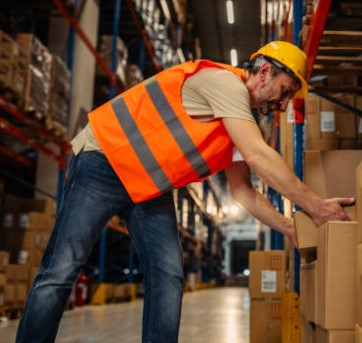worker: (88, 40, 308, 203)
